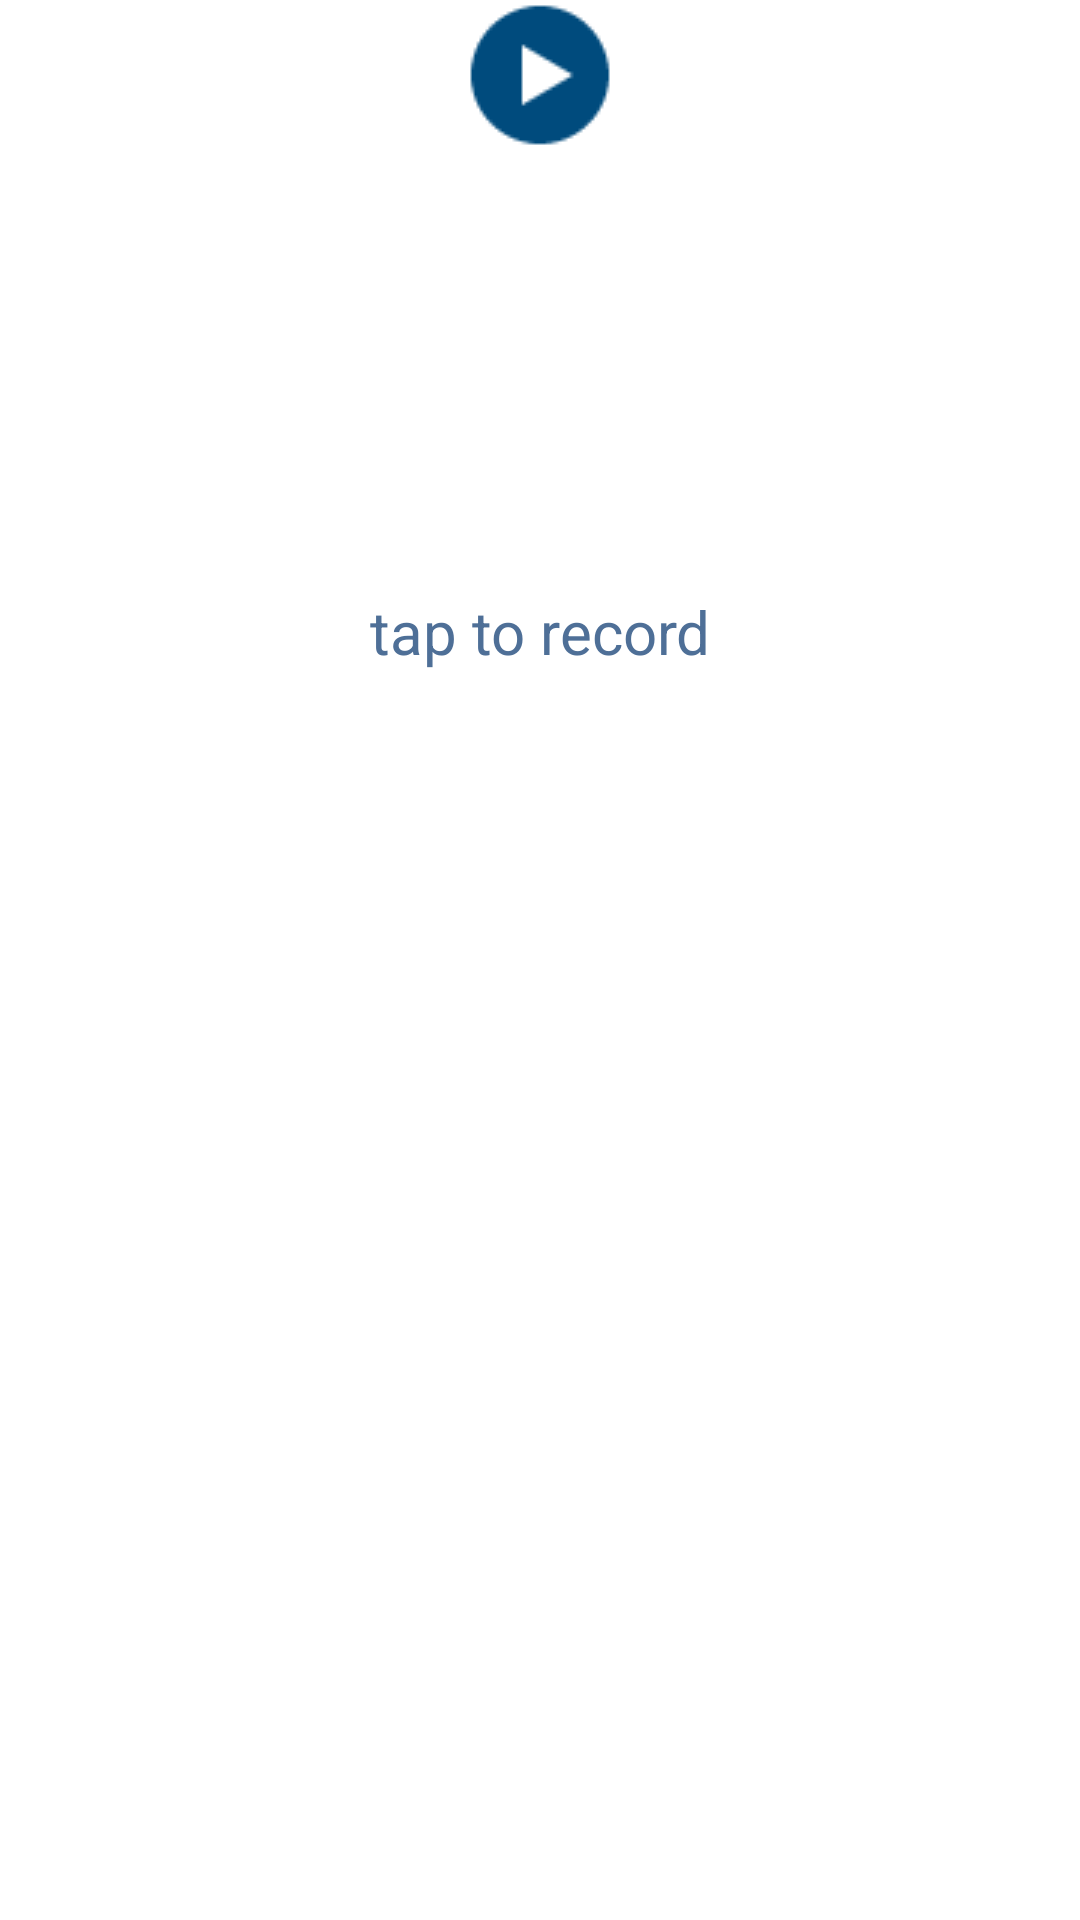

Named icons in this screenshot (1080 × 1920) and their centers, (x=x, y=y):
play: (x=540, y=75)
